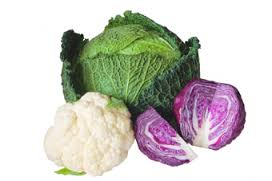cabbage: (78, 21, 185, 96), (176, 79, 248, 154)
